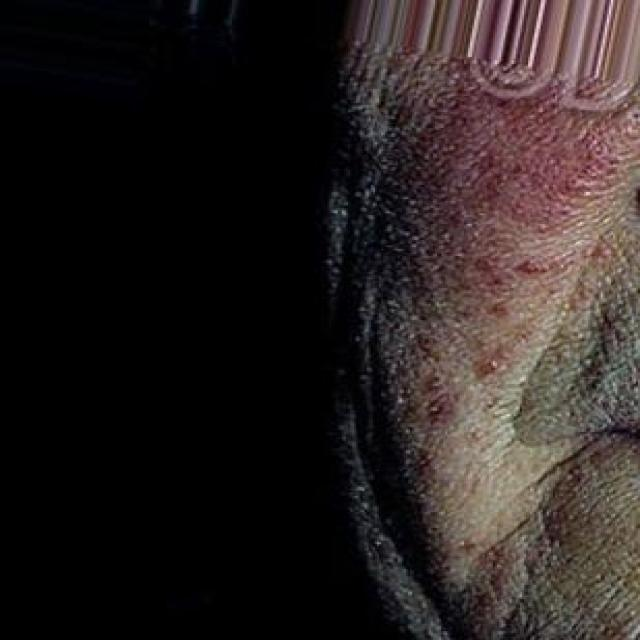Rosacea: (387, 101, 615, 486)
